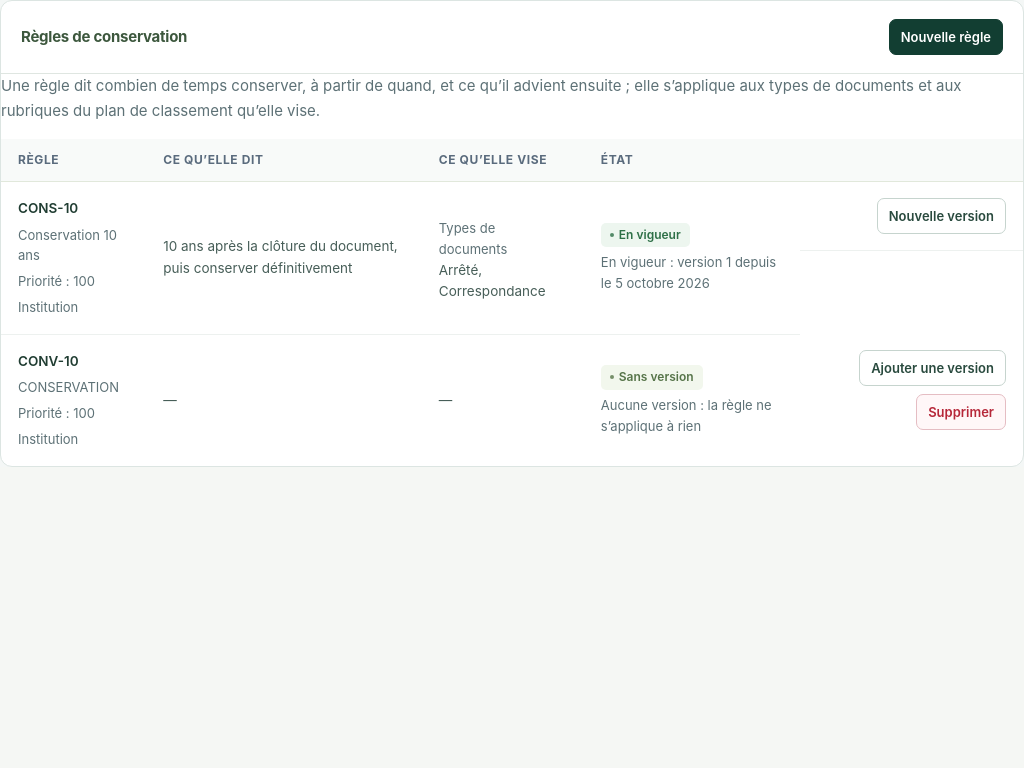
Test: un refus de suppression s’affiche et la règle reste
Click the button "Supprimer" at (961, 412), box [916,394,1006,430]
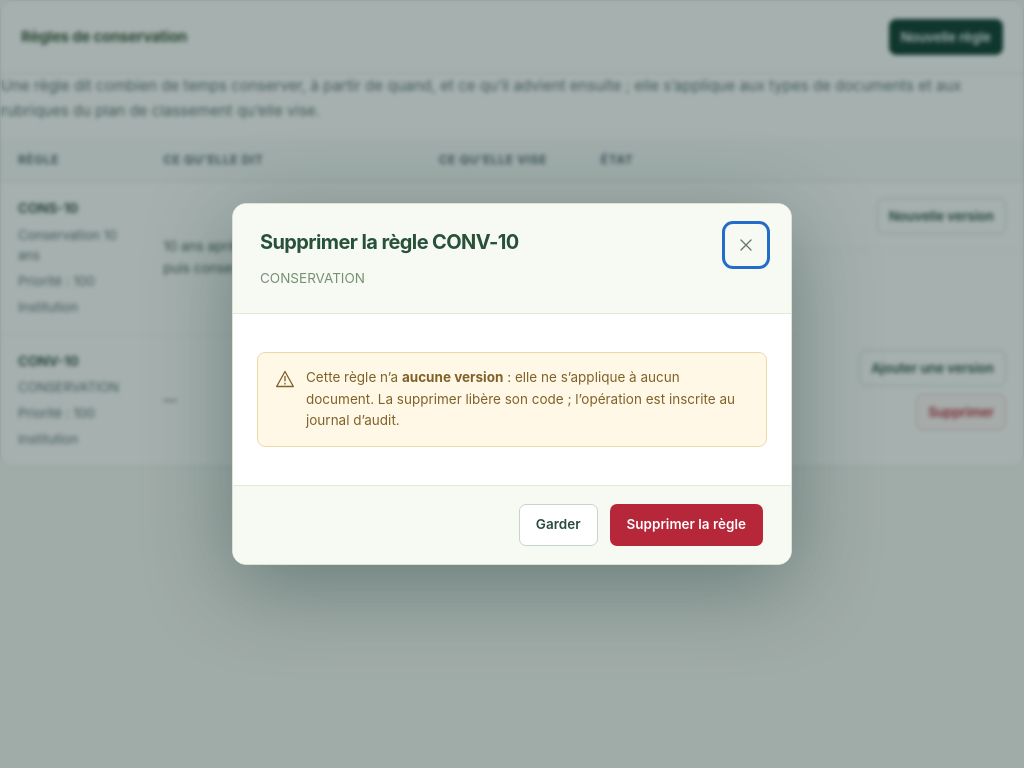
Click the button "Supprimer la règle" at (686, 525), box [610,504,763,546]
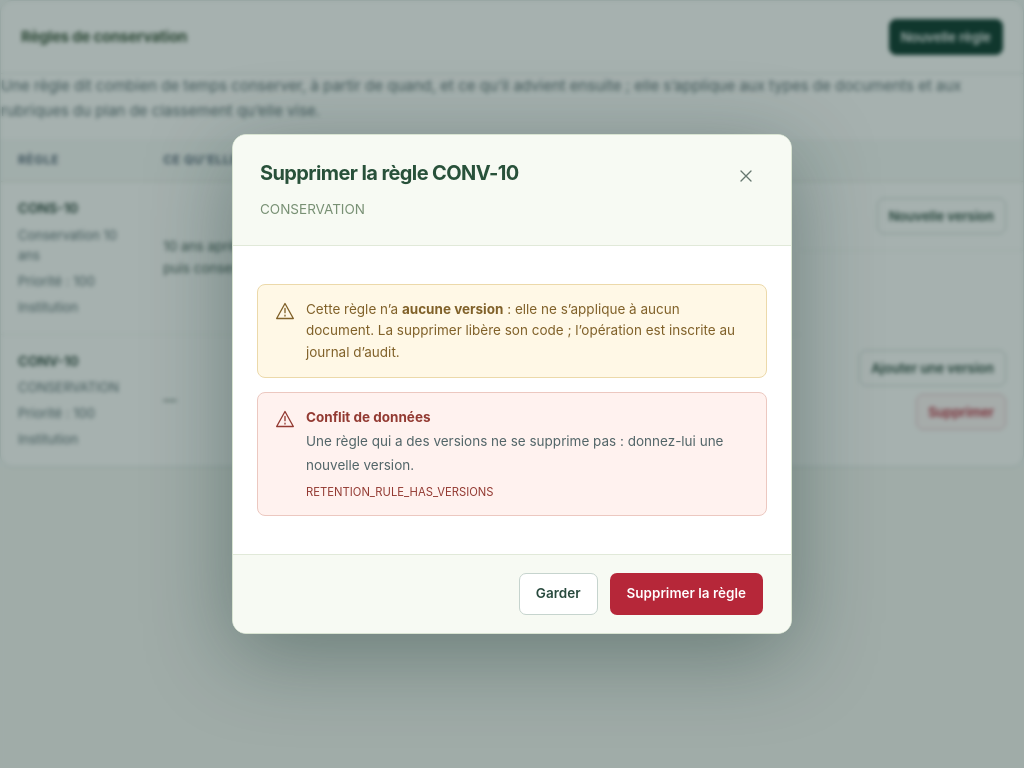
Expected: the text "CONV-10" is shown, [18,353,78,369]
Expected: the text "Une règle qui a des versions ne se supprime pas : donnez-lui une nouvelle version." is shown, [306,433,724,473]
